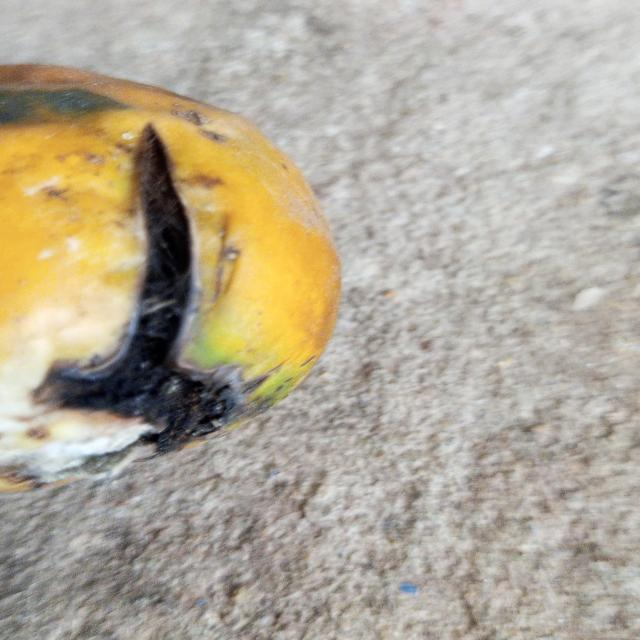damaged: (0, 64, 340, 492)
